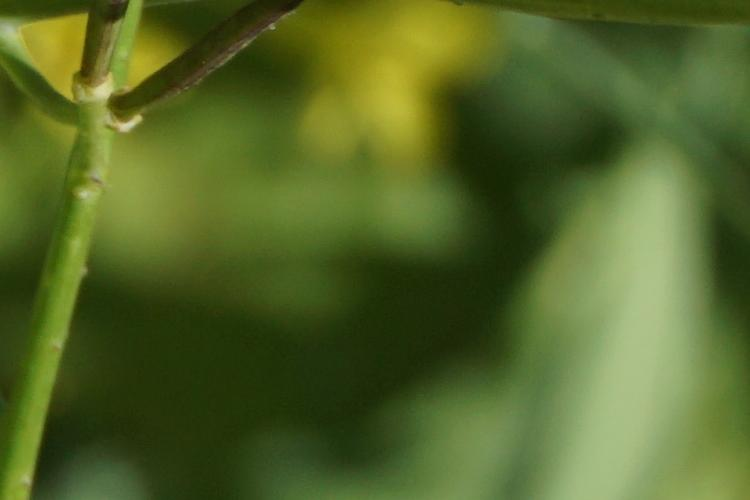pod: (107, 2, 329, 140), (66, 1, 124, 117)
